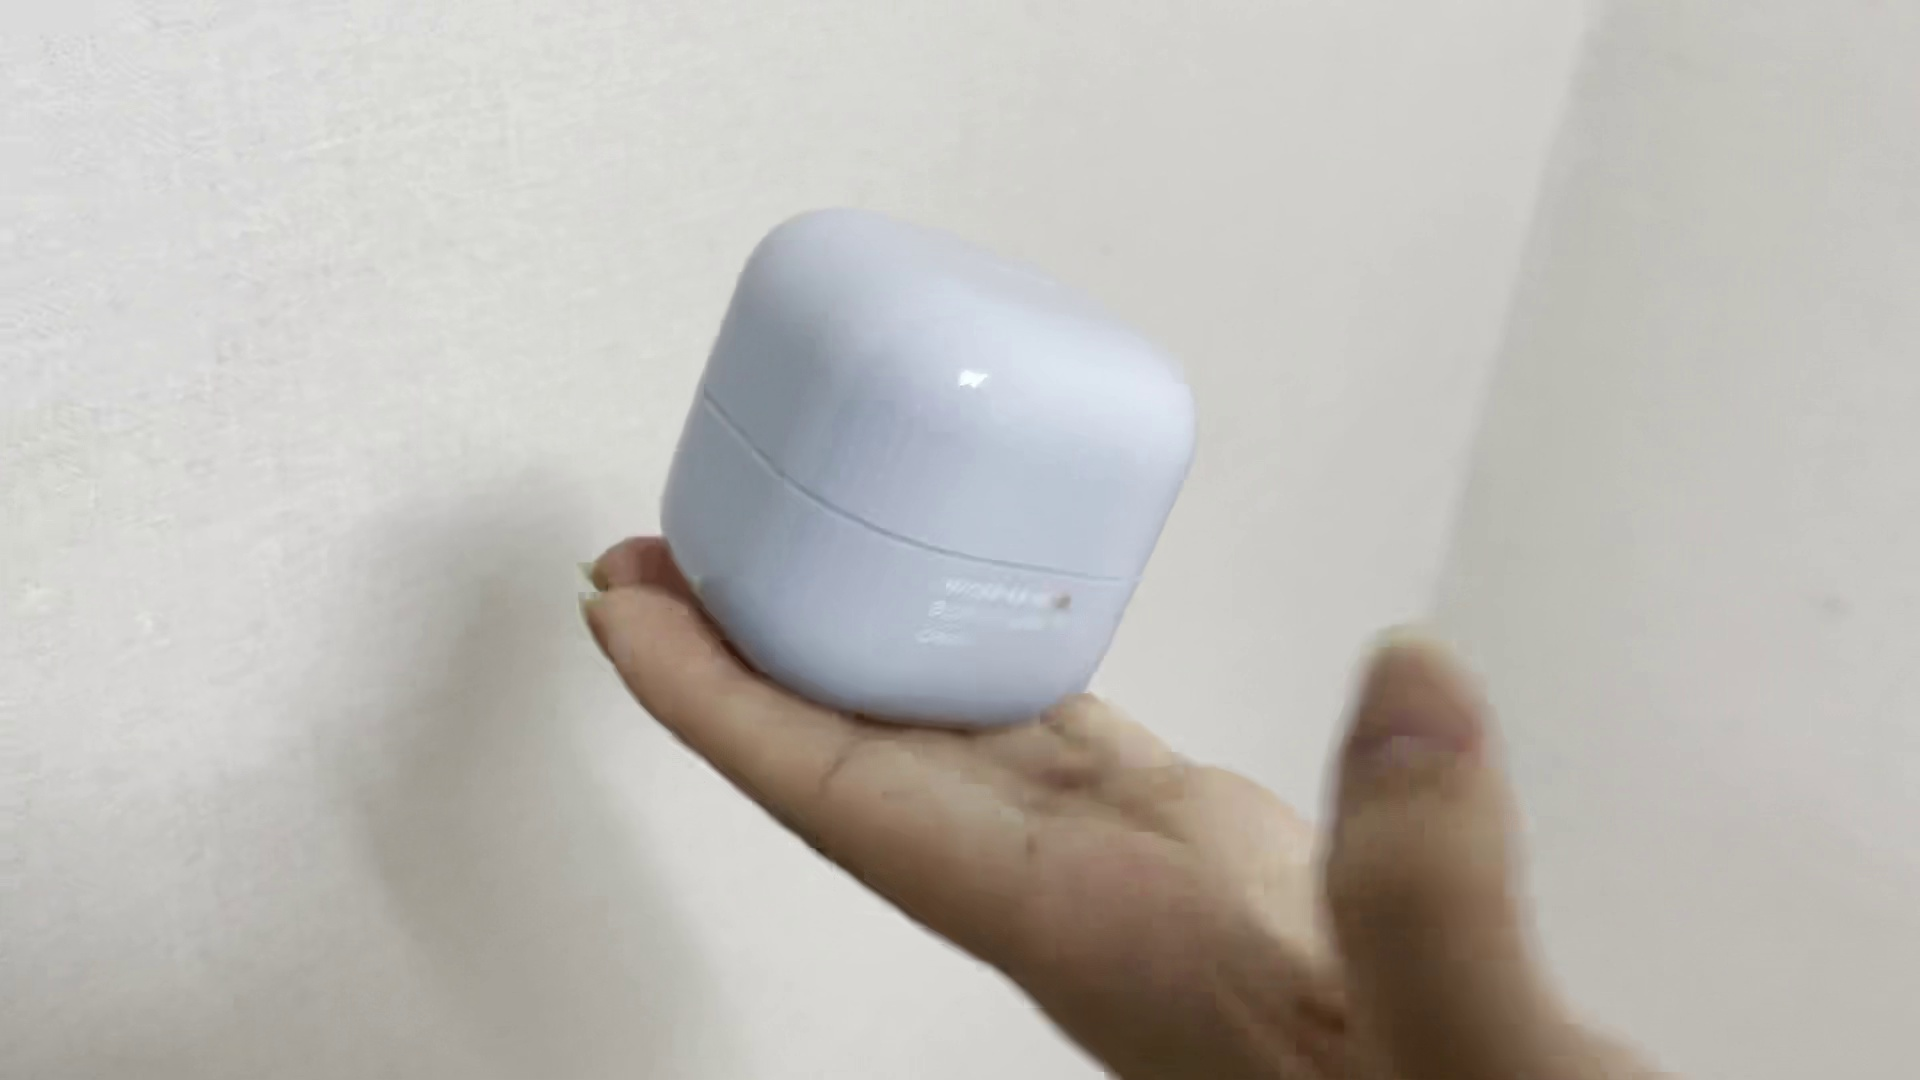cream: (655, 206, 1192, 732)
